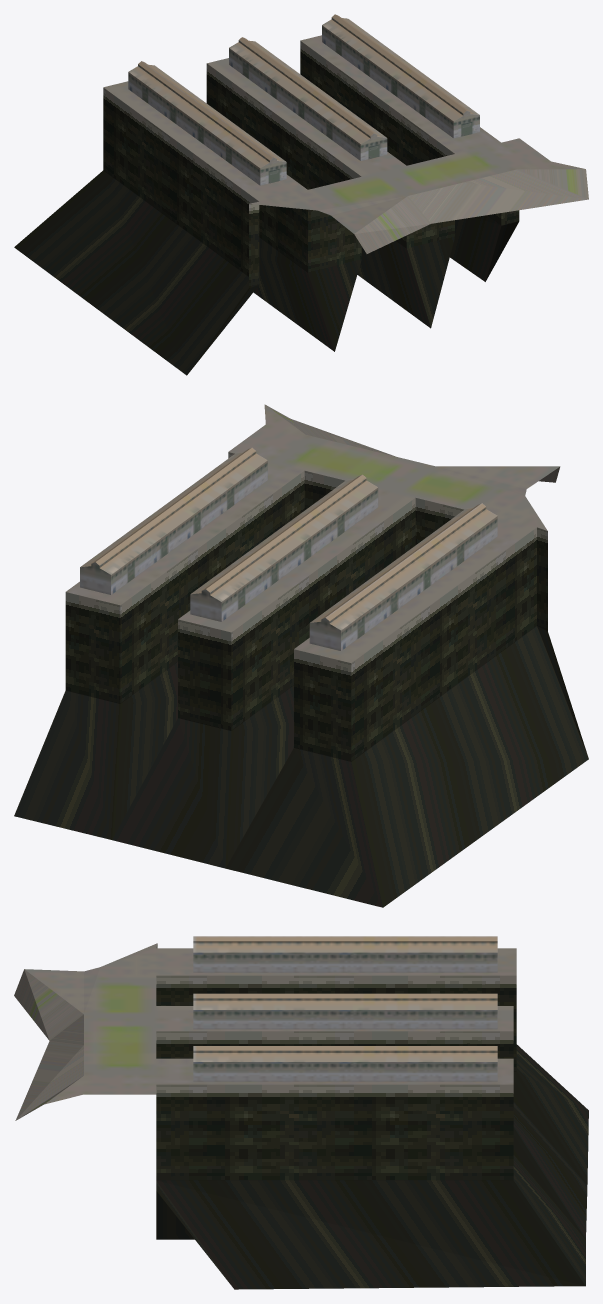
Rendered from lodr69_sfe2.obj.
3 renders of one model, top to bottom at view 1: azimuth 30°, elevation 25°; view 2: azimuth 150°, elevation 25°; view 3: azimuth 270°, elevation 25°, orthographic. The views are drawn at different scales.
Parts seen in each view (by area): view 1: LODr69_sfe2; view 2: LODr69_sfe2; view 3: LODr69_sfe2.
Part boxes in pixels (x1,y1,x2,y2): LODr69_sfe2: (14, 14, 588, 375); LODr69_sfe2: (14, 404, 588, 907); LODr69_sfe2: (14, 936, 588, 1289).
Bounding box in the file's own units: 162 × 89.92 × 208.
3 materials, 3 textured.
